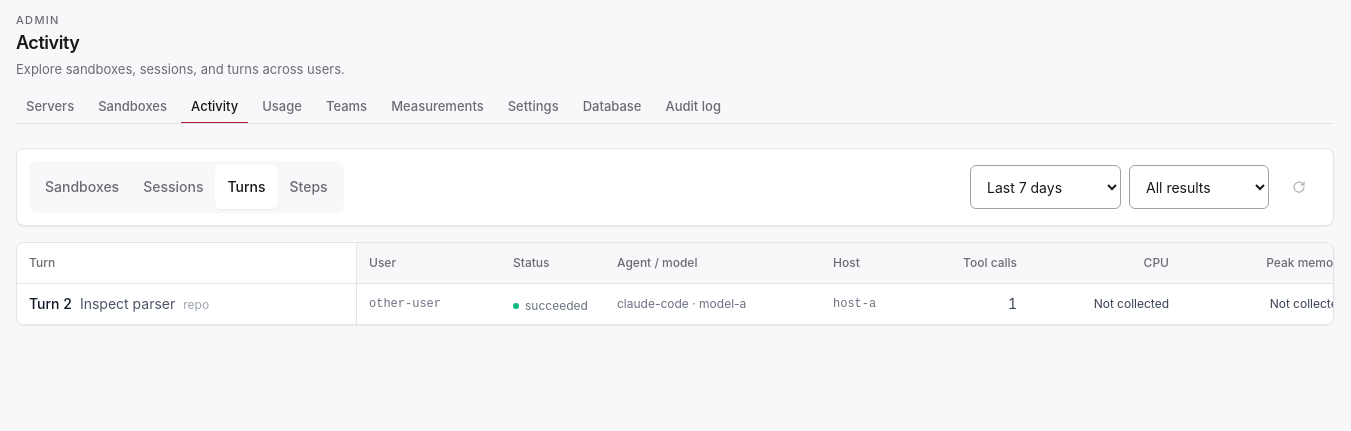
Scenario: turn level › refreshes the time window while preserving Status and replacing previously paged rows
The width and height of the screenshot is (1351, 431).
expect the link titled "job-1" is shown: met, box left=29, top=294, right=72, bottom=314
Select "failed" in the 2nd dropdown named "Turn result" at (1199, 187), box left=1129, top=165, right=1269, bottom=209
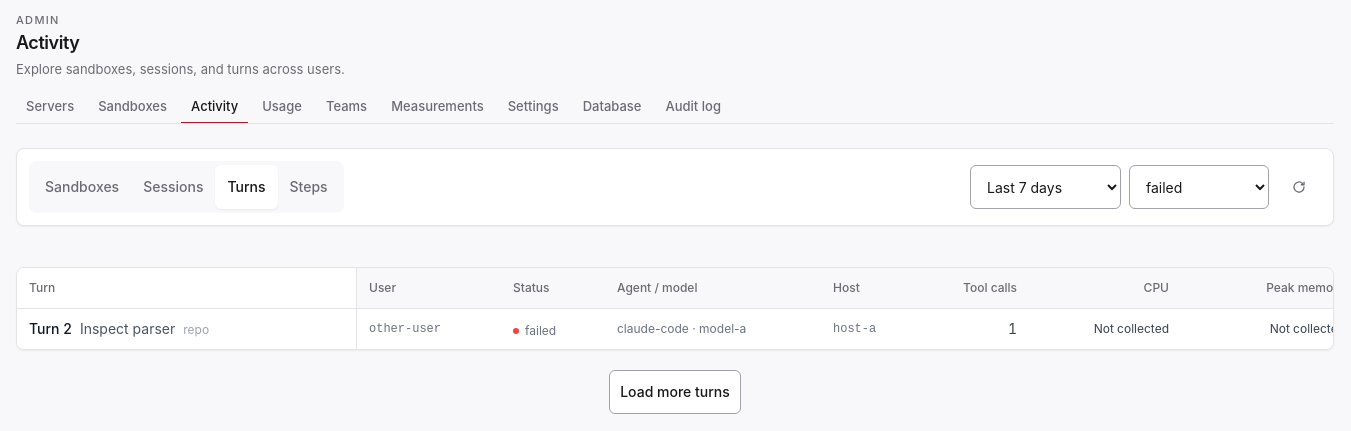
Click the button "Load more turns".
click(675, 392)  # box left=609, top=370, right=741, bottom=414
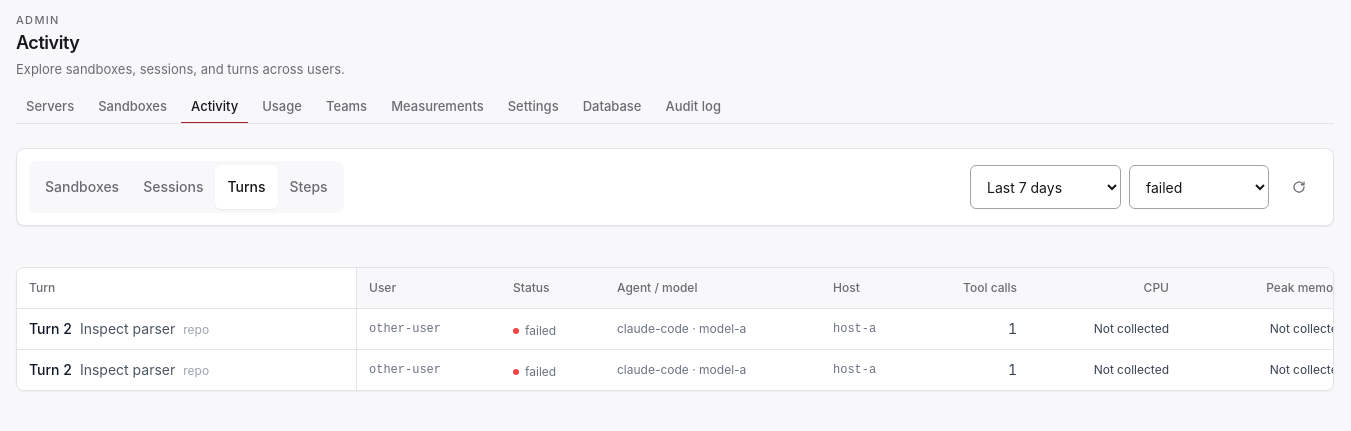
expect the 2nd link titled "job-2" is shown: met, box left=29, top=360, right=72, bottom=380
Click the button named "Refresh".
click(1299, 187)  # box left=1277, top=165, right=1321, bottom=209
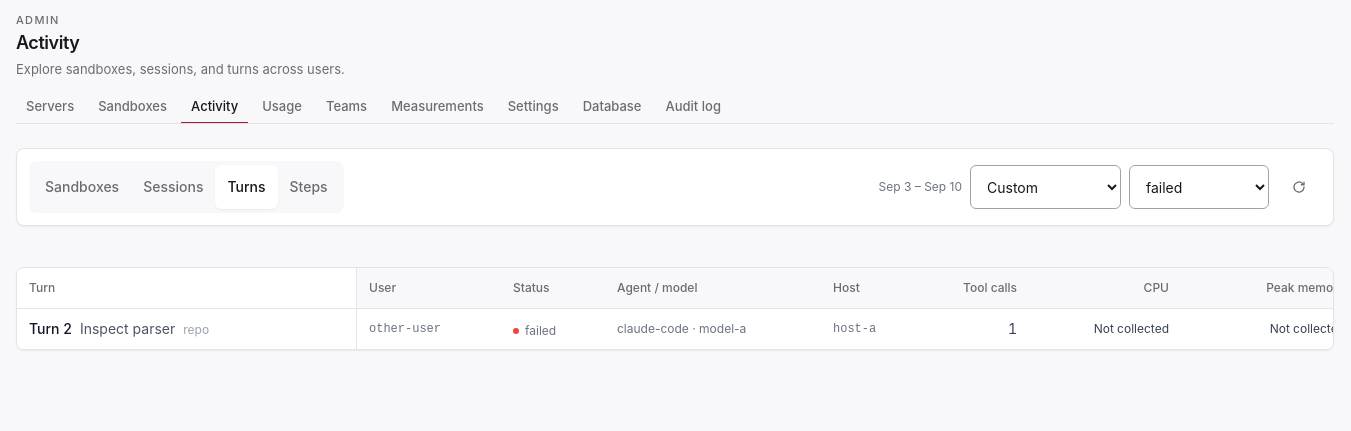
expect the link titled "refreshed-run" is shown: met, box left=29, top=319, right=72, bottom=339
expect the link titled "job-2" is gone: met
